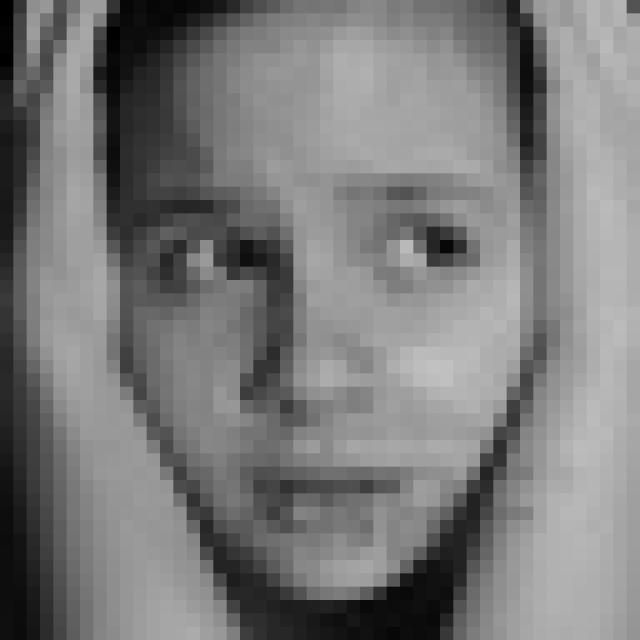fear: (121, 168, 528, 542)
